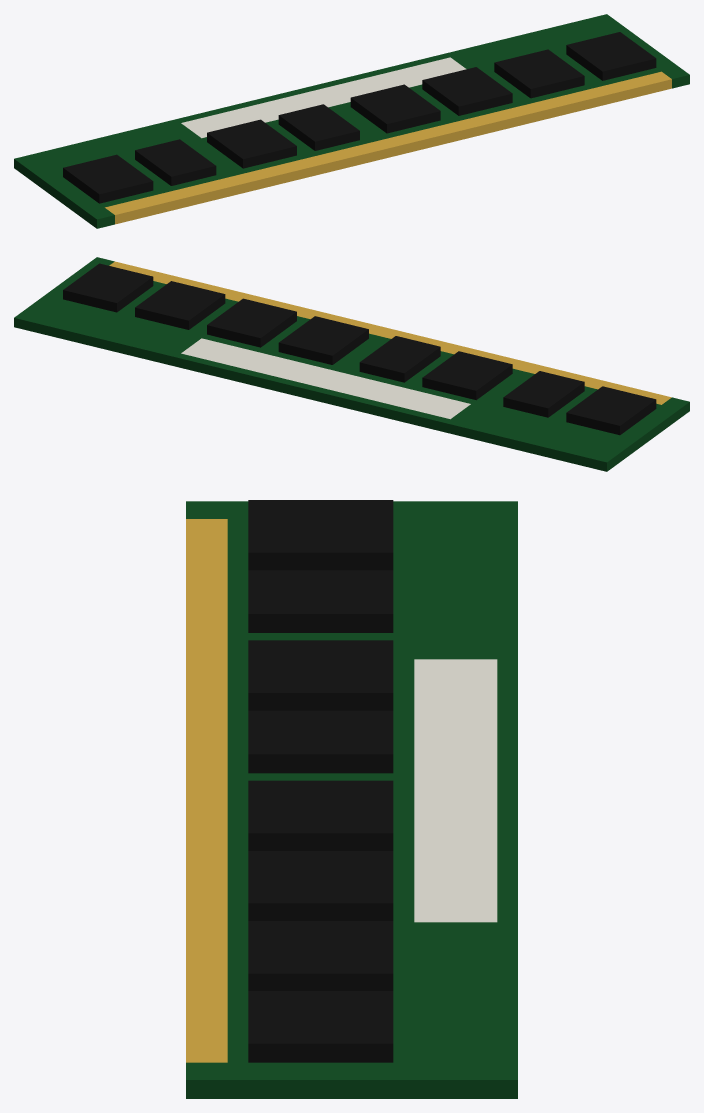
Rendered from ram_stick.glb.
3 renders of one model, top to bottom at view 1: azimuth 30°, elevation 25°; view 2: azimuth 150°, elevation 25°; view 3: azimuth 270°, elevation 25°, orthographic. The views are drawn at different scales.
Visible parts, largest first — view 1: ram_stick:compound; view 2: ram_stick:compound; view 3: ram_stick:compound.
Boxes of the visible parts, <box> form: ram_stick:compound: <box>14,14,689,228</box>; ram_stick:compound: <box>14,257,689,471</box>; ram_stick:compound: <box>186,500,517,1098</box>.
Bounding box in the file's own units: 0.132 × 0.004 × 0.032.
